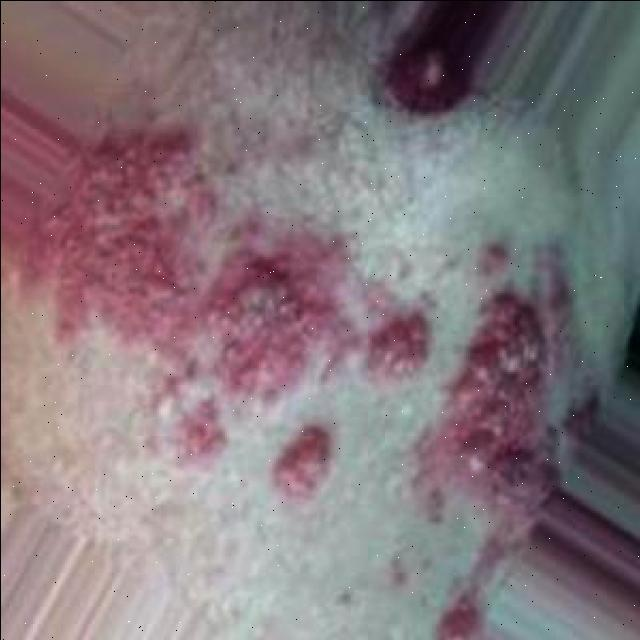Shingles: (24, 135, 432, 447), (435, 293, 561, 517), (270, 424, 332, 504)
